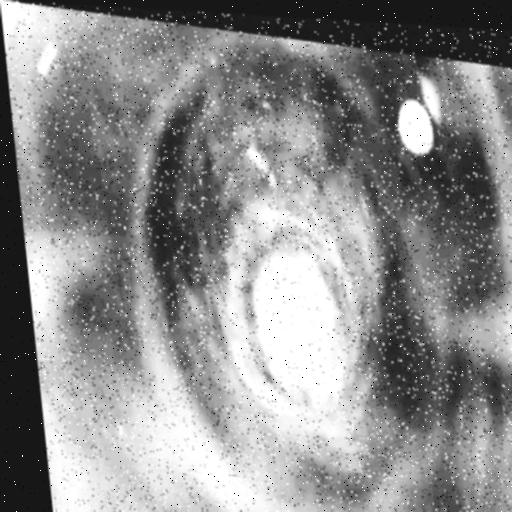balloon: (398, 89, 434, 150)
